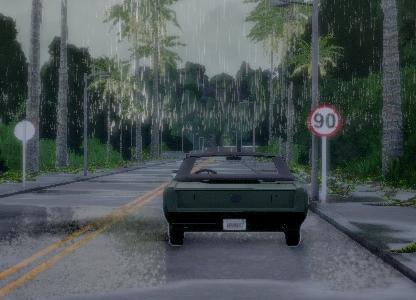Speed_90: (305, 99, 342, 139)
